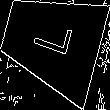L_W: (27, 19, 76, 64)
